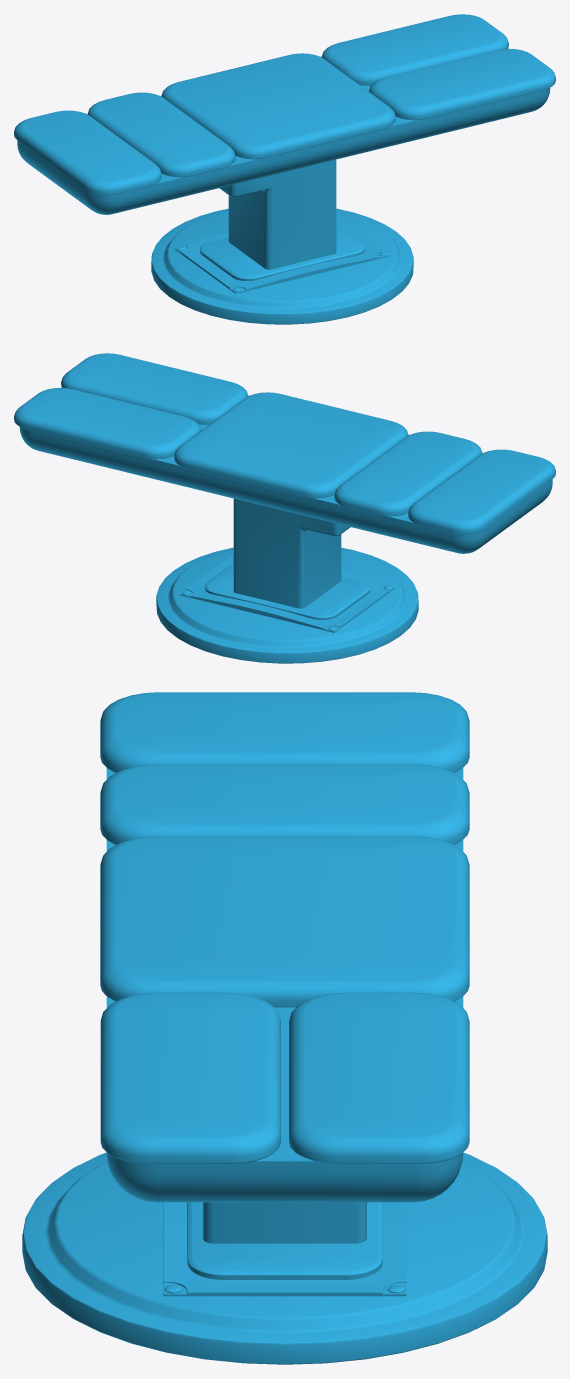
Rendered from Bed.fbx.
The picture shows the model from 3 angles, top to bottom: view 1: azimuth 30°, elevation 25°; view 2: azimuth 150°, elevation 25°; view 3: azimuth 270°, elevation 25°; orthographic projection. The views are drawn at different scales.
Visible parts, largest first — view 1: SM_Bed; view 2: SM_Bed; view 3: SM_Bed.
Boxes of the visible parts, box(x1,y1,x2,y2) form: SM_Bed: box(14, 14, 555, 324); SM_Bed: box(14, 353, 555, 663); SM_Bed: box(22, 692, 547, 1364).
Bounding box in the file's own units: 2.5 × 0.872 × 1.21.
